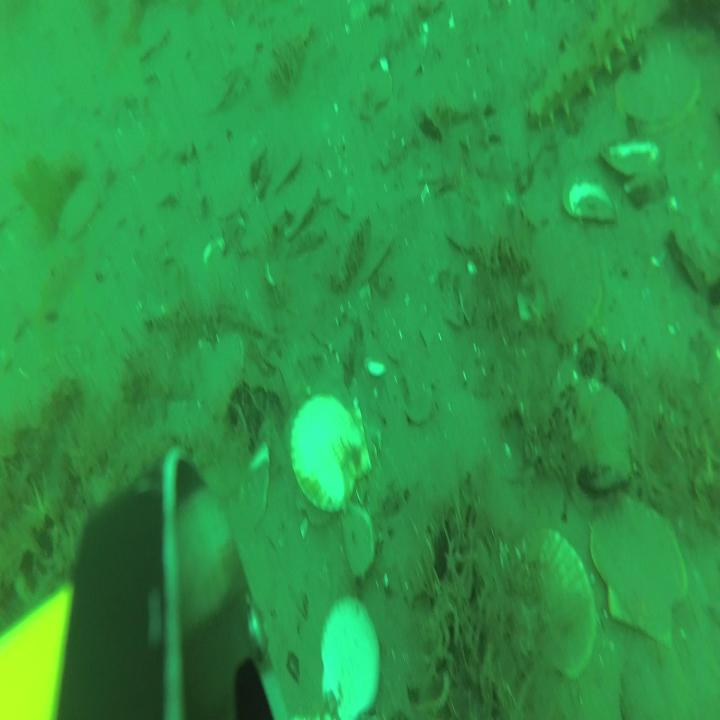holothurian: (526, 0, 637, 131)
scallop: (590, 495, 691, 651), (516, 530, 597, 684), (292, 393, 372, 518), (529, 219, 605, 350), (557, 370, 635, 496), (319, 594, 381, 720), (196, 328, 245, 420), (56, 180, 101, 241)
